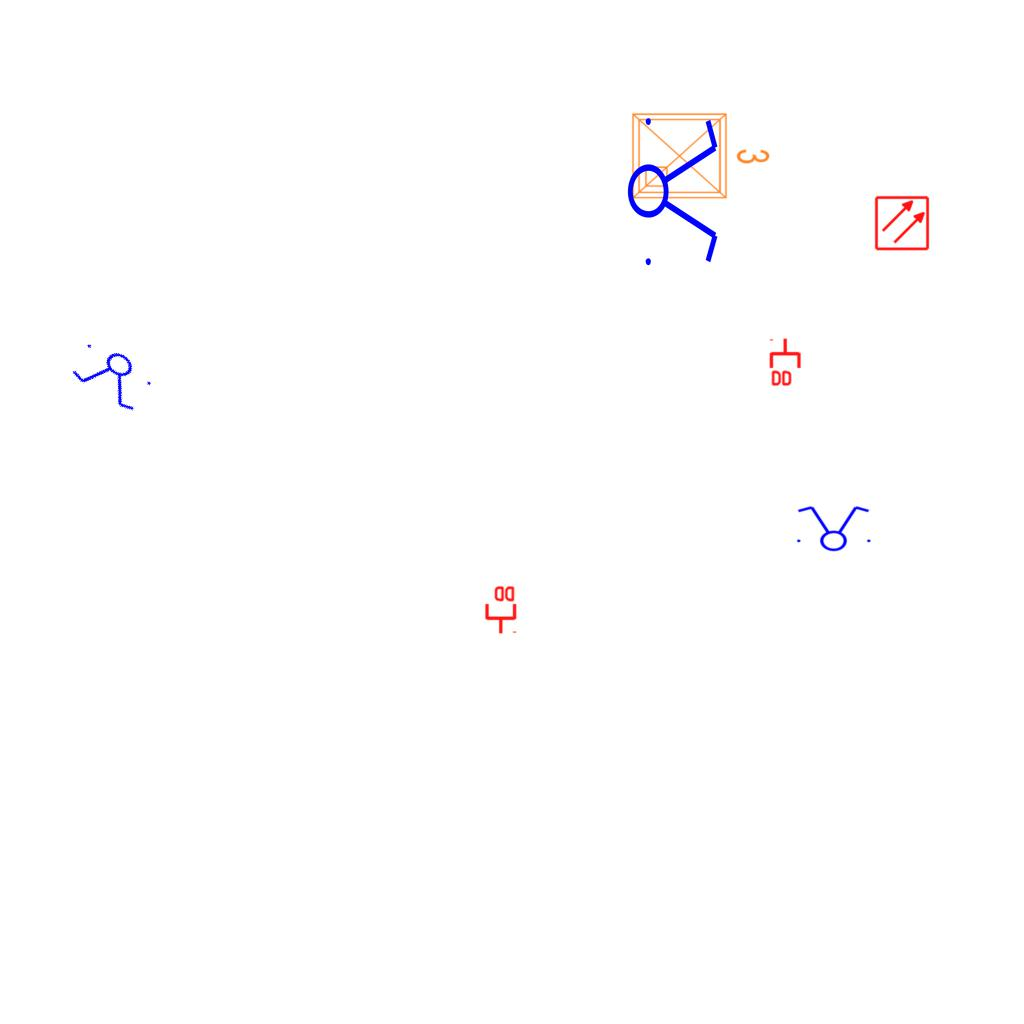Datenanschluss_zweifach: (769, 337, 803, 388), (483, 584, 517, 635)
Einbaudownlights_LED_Konferenzraeume: (625, 102, 775, 206)
RMO_Rauchmelder_optischer: (874, 195, 930, 251)
Serienschalter: (626, 106, 722, 274), (64, 333, 162, 419), (791, 504, 875, 552)
